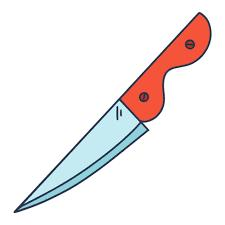Knife: (13, 11, 211, 213)
